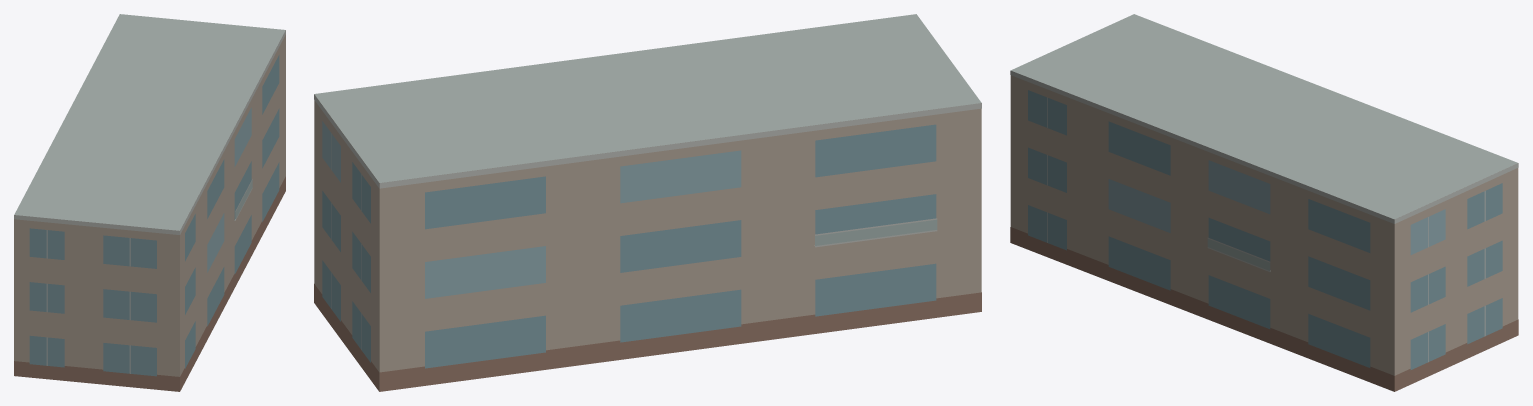
File: survey-upis-32775716.glb
The picture shows the model from 3 angles, left to right: view 1: azimuth 30°, elevation 25°; view 2: azimuth 150°, elevation 25°; view 3: azimuth 270°, elevation 25°; orthographic projection. The views are drawn at different scales.
Visible parts, largest first — view 1: survey-upis-32775716.tmp; view 2: survey-upis-32775716.tmp; view 3: survey-upis-32775716.tmp.
Boxes of the visible parts, <box> form: survey-upis-32775716.tmp: <box>14,14,285,391</box>; survey-upis-32775716.tmp: <box>314,14,981,391</box>; survey-upis-32775716.tmp: <box>1010,14,1518,391</box>.
Bounding box in the file's own units: 23.4 × 9.15 × 24.44.
